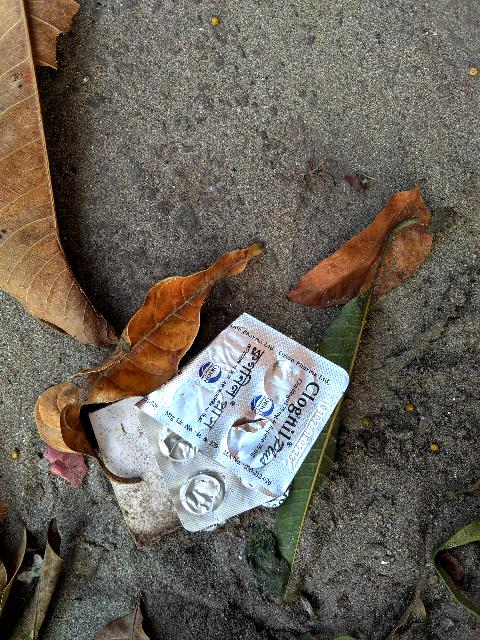medicine: (116, 324, 360, 535)
